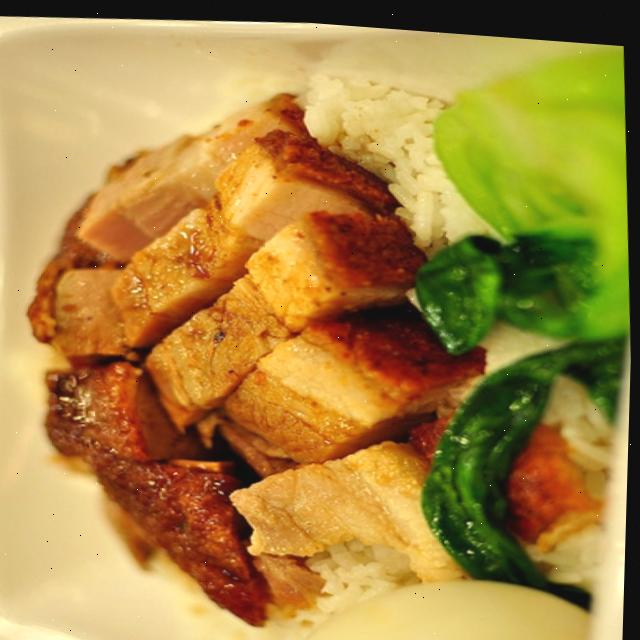米饭主食: (0, 27, 620, 640)
